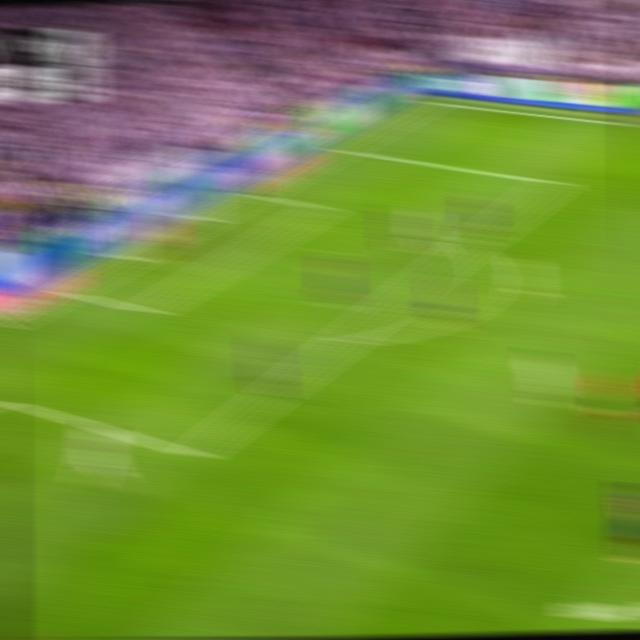bigarea_bottom_inner: (180, 438, 210, 468)
bigarea_top_inner: (541, 171, 566, 192)
bigarea_top_outter: (326, 140, 352, 154)
bottom_arc_area_intersection: (332, 326, 360, 351)
corner: (412, 92, 440, 107)
smallarea_bottom_inner: (134, 298, 160, 322)
smallarea_top_inner: (310, 200, 332, 215)
top_arc_area_intersection: (456, 234, 484, 256)
